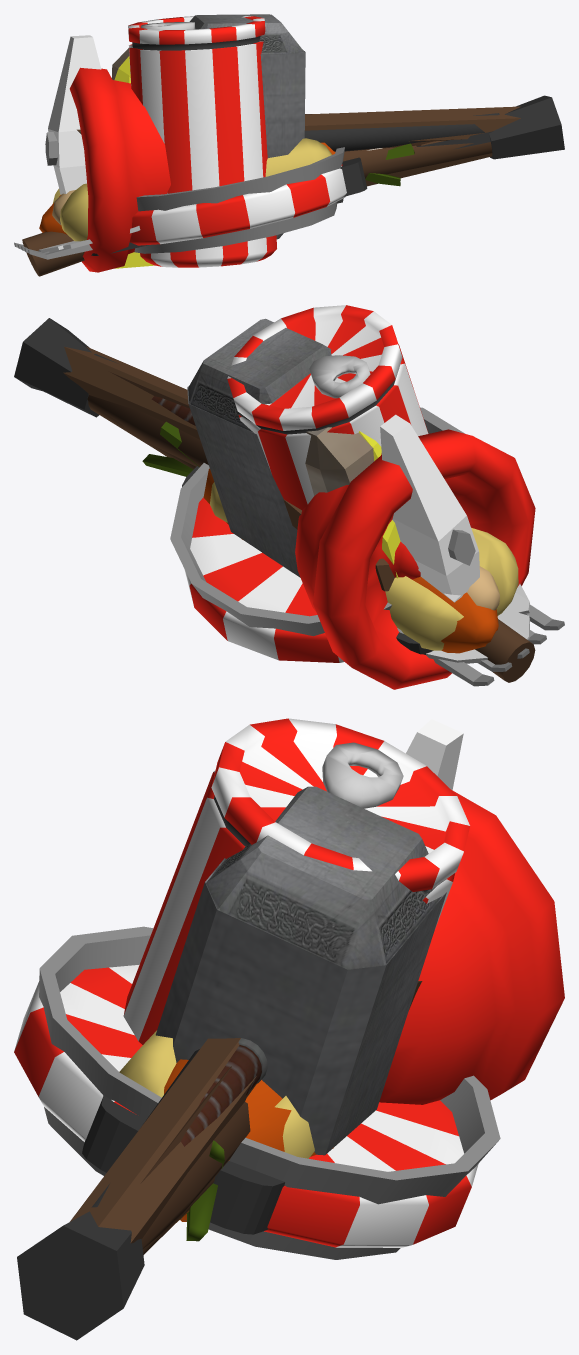
Rendered from captain-weapon.fbx.
The picture shows the model from 3 angles, top to bottom: view 1: azimuth 30°, elevation 25°; view 2: azimuth 150°, elevation 25°; view 3: azimuth 270°, elevation 25°; orthographic projection. The views are drawn at different scales.
Visible parts, largest first — view 1: hammer, destapador, lollipop, pan, mjolnir, hammer_iron, buada, stick, shovel_iron, hotdog, rack, carrot (+2 smaller); view 2: destapador, hammer, mjolnir, lollipop, hammer_iron, buada, hotdog, shovel_iron, pan, carrot, stick, rack (+1 smaller); view 3: mjolnir, destapador, hammer, lollipop, pan, buada, shovel_iron, old_phone, carrot, hotdog, hammer_iron.
Part boxes in pixels (<box>): hammer: <box>128,16,499,267</box>; destapador: <box>69,67,433,272</box>; lollipop: <box>129,164,346,245</box>; pan: <box>134,131,493,253</box>; mjolnir: <box>189,14,321,239</box>; hammer_iron: <box>45,35,330,194</box>; buada: <box>77,48,520,141</box>; stick: <box>22,140,492,276</box>; shovel_iron: <box>38,95,564,252</box>; hotdog: <box>52,138,382,241</box>; rack: <box>14,153,492,259</box>; carrot: <box>39,142,414,234</box>; destapador: <box>87,395,535,689</box>; hammer: <box>94,305,428,509</box>; mjolnir: <box>151,318,331,577</box>; lollipop: <box>184,497,344,662</box>; hammer_iron: <box>110,372,479,602</box>; buada: <box>63,346,394,591</box>; hotdog: <box>210,482,518,650</box>; shovel_iron: <box>14,318,529,663</box>; pan: <box>170,407,465,636</box>; carrot: <box>142,421,498,653</box>; stick: <box>88,401,535,682</box>; rack: <box>433,604,564,686</box>; mjolnir: <box>155,786,446,1155</box>; destapador: <box>141,790,564,1248</box>; hammer: <box>91,718,469,1207</box>; lollipop: <box>14,964,478,1247</box>; pan: <box>39,926,500,1259</box>; buada: <box>70,981,422,1243</box>; shovel_iron: <box>17,1210,189,1340</box>; old_phone: <box>82,1095,284,1234</box>; carrot: <box>164,1059,333,1241</box>; hotdog: <box>119,1030,314,1158</box>; hammer_iron: <box>140,719,463,1183</box>.
Size of the model in its own units: 6.73 by 3.29 by 3.55.
1 material, 1 textured.
